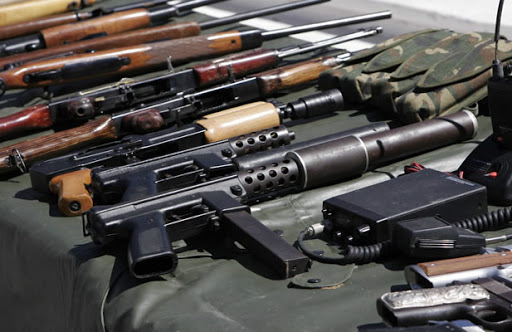Arma Real: (78, 106, 501, 281), (12, 21, 320, 111), (86, 122, 305, 195)
